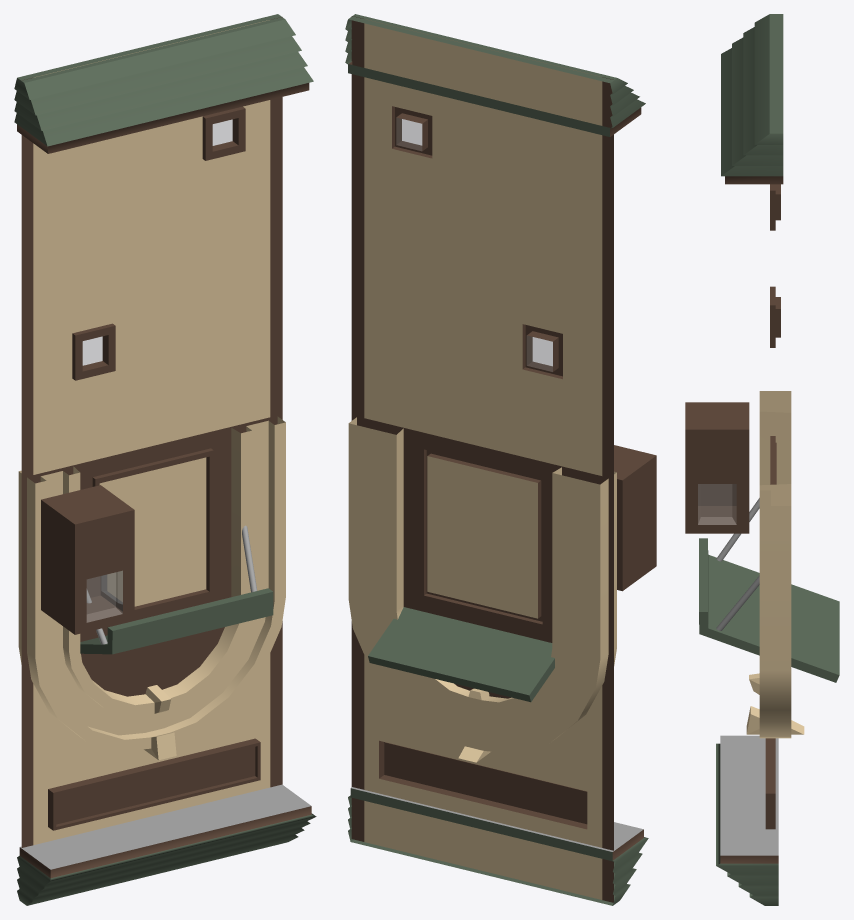
File: SM_Wall_02.fbx
The picture shows the model from 3 angles, left to right: view 1: azimuth 30°, elevation 25°; view 2: azimuth 150°, elevation 25°; view 3: azimuth 270°, elevation 25°; orthographic projection. The views are drawn at different scales.
Parts seen in each view (by area): view 1: Face_10_Down_01; view 2: Face_10_Down_01; view 3: Face_10_Down_01.
Boxes of the visible parts, <box> form: Face_10_Down_01: <box>14,14,316,905</box>; Face_10_Down_01: <box>345,14,656,905</box>; Face_10_Down_01: <box>685,14,839,905</box>.
Bounding box in the file's own units: 130 × 384 × 69.51.
